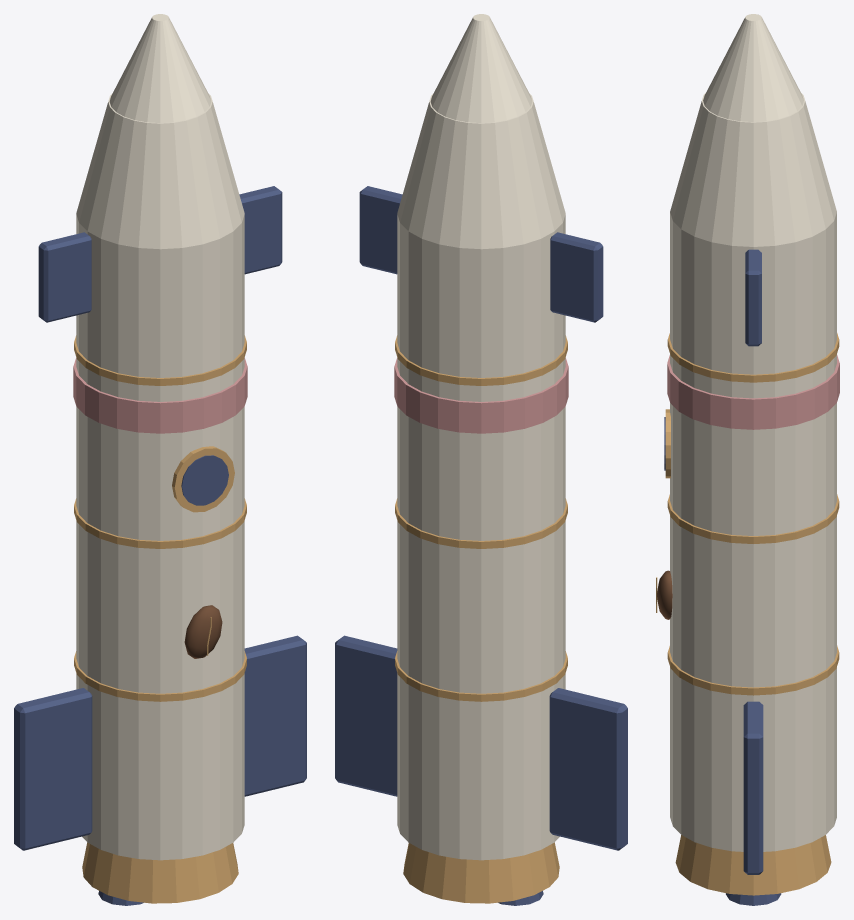
File: orb4_gag_rocket.glb
3 views of the same model, side by side, from view 1: azimuth 30°, elevation 25°; view 2: azimuth 150°, elevation 25°; view 3: azimuth 270°, elevation 25° (orthographic).
Visible parts, largest first — view 1: orb4_gag_rocket__orb3-ivory-ceramic, orb4_gag_rocket__orb3-indigo-glaze, orb4_gag_rocket__orb3-brushed-brass, orb4_gag_rocket__orb3-rose-sugar, orb4_gag_rocket__orb3-roasted-coffee; view 2: orb4_gag_rocket__orb3-ivory-ceramic, orb4_gag_rocket__orb3-indigo-glaze, orb4_gag_rocket__orb3-brushed-brass, orb4_gag_rocket__orb3-rose-sugar; view 3: orb4_gag_rocket__orb3-ivory-ceramic, orb4_gag_rocket__orb3-brushed-brass, orb4_gag_rocket__orb3-indigo-glaze, orb4_gag_rocket__orb3-rose-sugar, orb4_gag_rocket__orb3-roasted-coffee.
Boxes of the visible parts, <box> form: orb4_gag_rocket__orb3-ivory-ceramic: <box>76,14,244,860</box>; orb4_gag_rocket__orb3-indigo-glaze: <box>14,186,306,905</box>; orb4_gag_rocket__orb3-brushed-brass: <box>74,335,246,903</box>; orb4_gag_rocket__orb3-rose-sugar: <box>73,358,247,433</box>; orb4_gag_rocket__orb3-roasted-coffee: <box>184,605,222,658</box>; orb4_gag_rocket__orb3-ivory-ceramic: <box>397,14,565,860</box>; orb4_gag_rocket__orb3-indigo-glaze: <box>335,186,627,905</box>; orb4_gag_rocket__orb3-brushed-brass: <box>395,335,567,903</box>; orb4_gag_rocket__orb3-rose-sugar: <box>394,358,568,433</box>; orb4_gag_rocket__orb3-ivory-ceramic: <box>670,14,836,851</box>; orb4_gag_rocket__orb3-brushed-brass: <box>656,333,839,895</box>; orb4_gag_rocket__orb3-indigo-glaze: <box>664,249,781,905</box>; orb4_gag_rocket__orb3-rose-sugar: <box>667,355,839,429</box>; orb4_gag_rocket__orb3-roasted-coffee: <box>657,570,672,619</box>.
Size of the model in its own units: 5.9 by 17.05 by 3.3.
